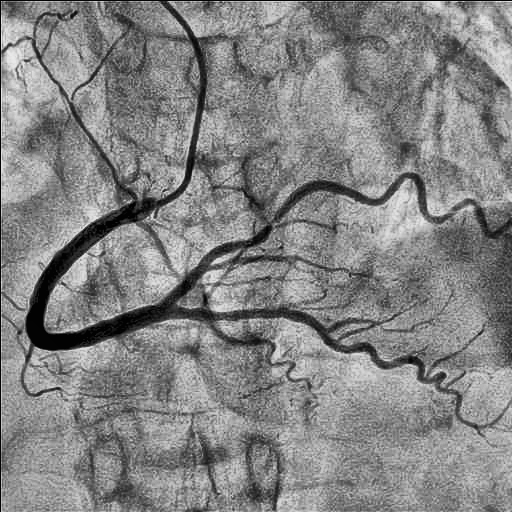pborca: (162, 172, 508, 307)
pda: (176, 307, 495, 428)
rca: (26, 198, 174, 350)
